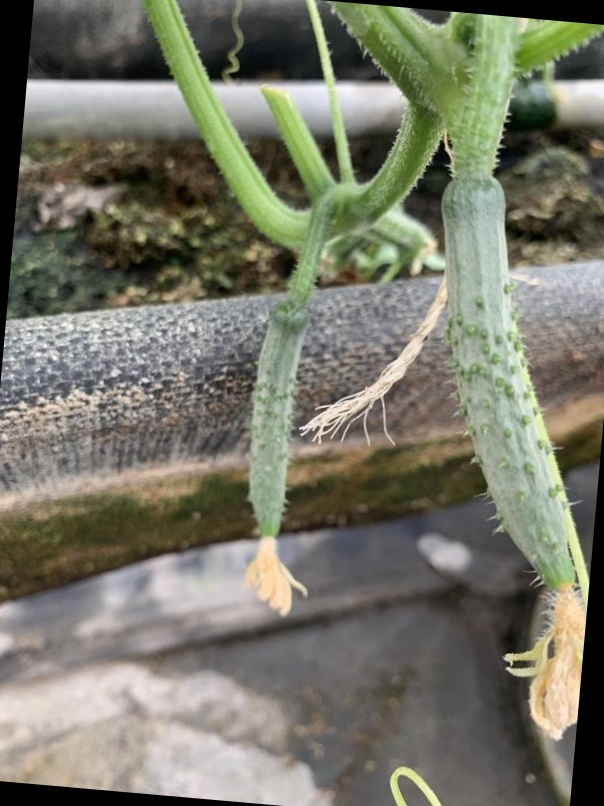bear: (229, 303, 321, 598)
growth: (442, 171, 589, 633)
